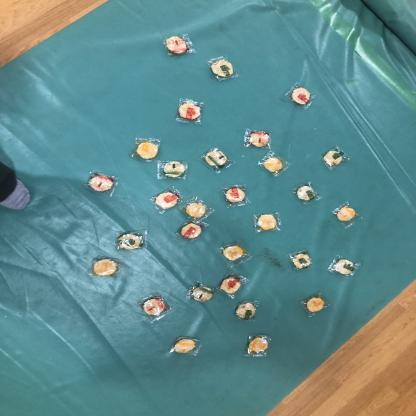green_setoshio: (207, 55, 239, 84), (156, 158, 192, 183), (200, 147, 236, 172), (113, 228, 150, 251), (329, 257, 364, 278), (318, 146, 350, 168), (188, 281, 217, 305), (294, 181, 321, 206), (233, 300, 263, 322), (288, 249, 314, 271)
red_setoshio: (158, 30, 198, 60), (138, 291, 174, 319), (282, 83, 318, 107), (84, 172, 120, 196), (151, 186, 183, 213), (172, 218, 205, 244), (221, 182, 251, 210), (218, 271, 250, 297), (176, 98, 207, 124), (242, 128, 275, 150)
yellow_setoshio: (240, 330, 275, 360), (89, 254, 125, 280), (255, 154, 291, 178), (183, 196, 216, 222), (251, 212, 286, 236), (300, 291, 331, 318), (218, 241, 251, 266), (332, 202, 363, 228), (131, 136, 161, 162), (169, 334, 203, 356)
